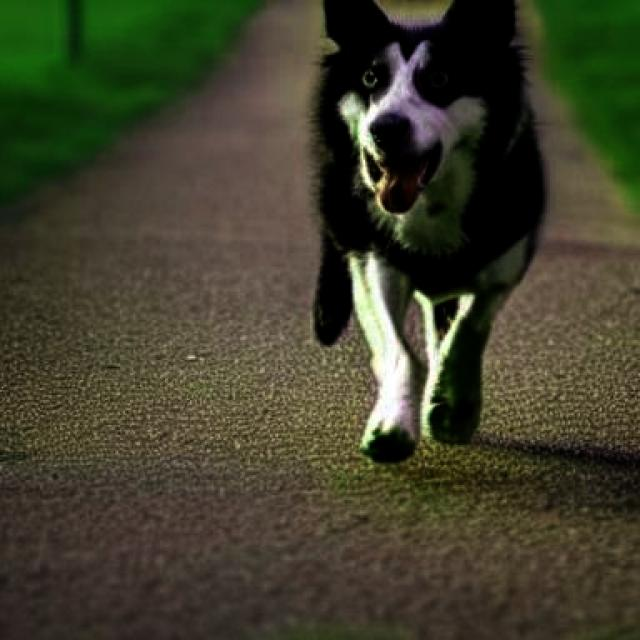Dog: (314, 0, 548, 465)
